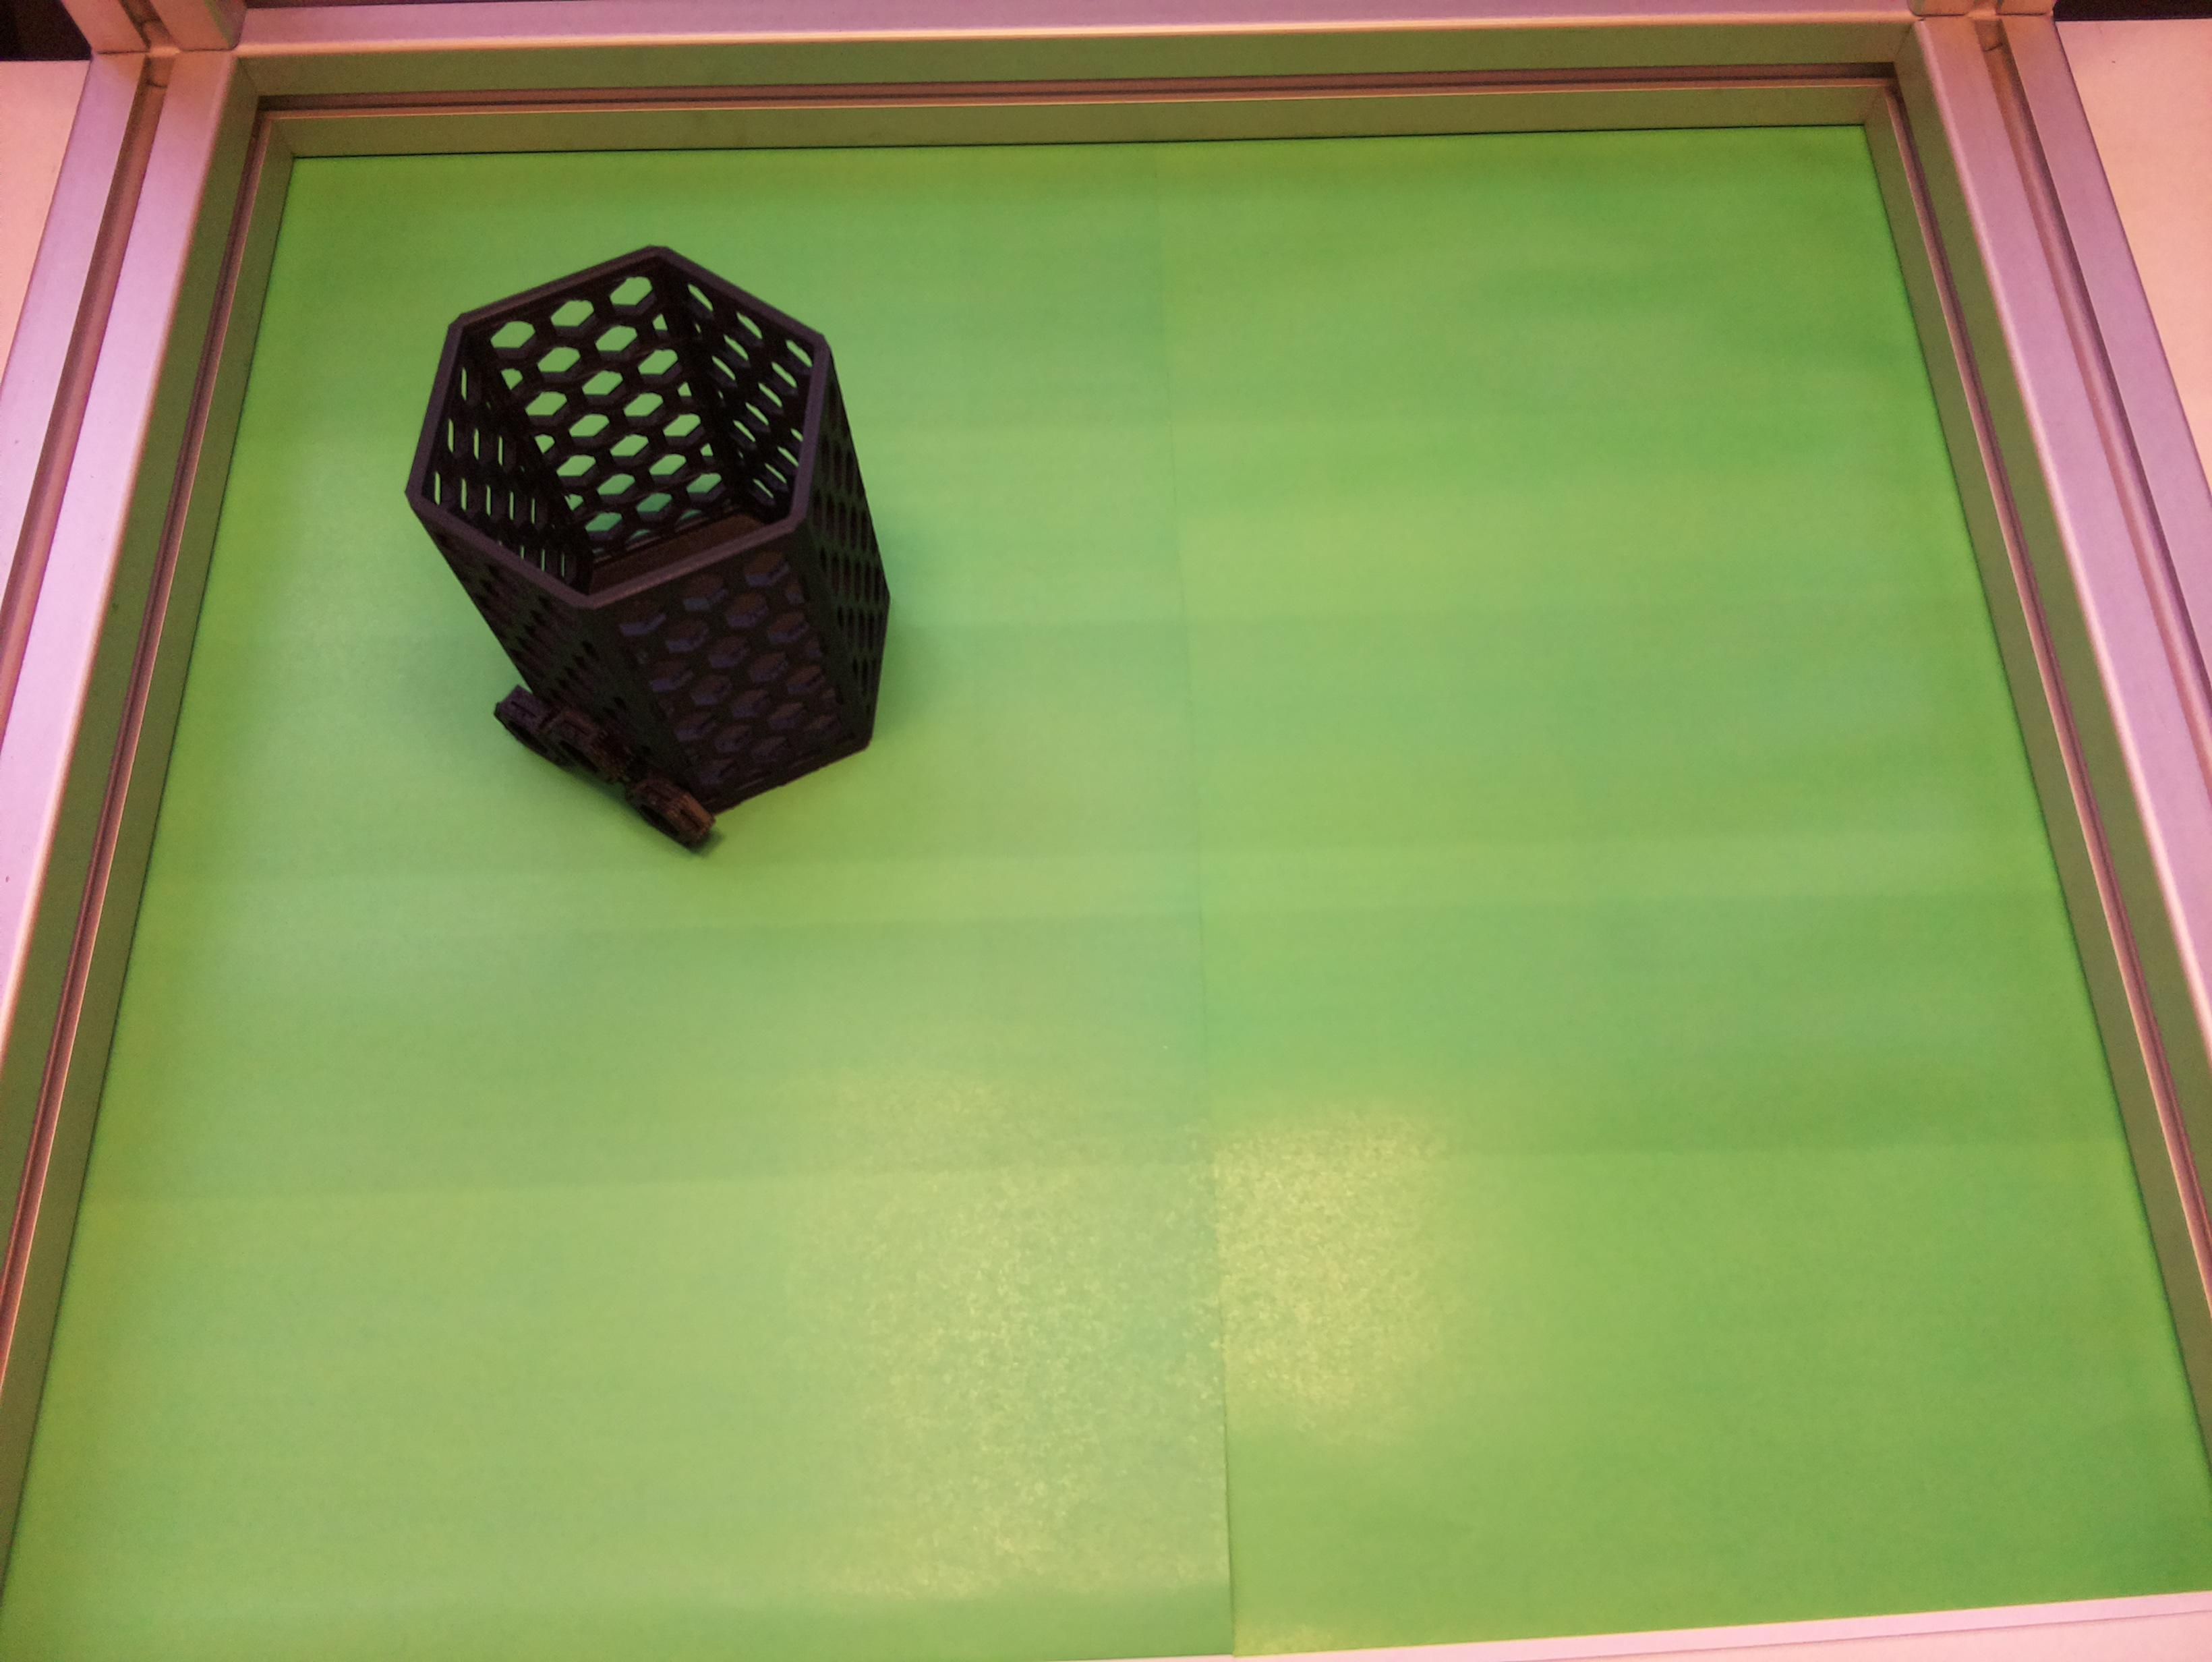cup_holder: (344, 185, 992, 901)
